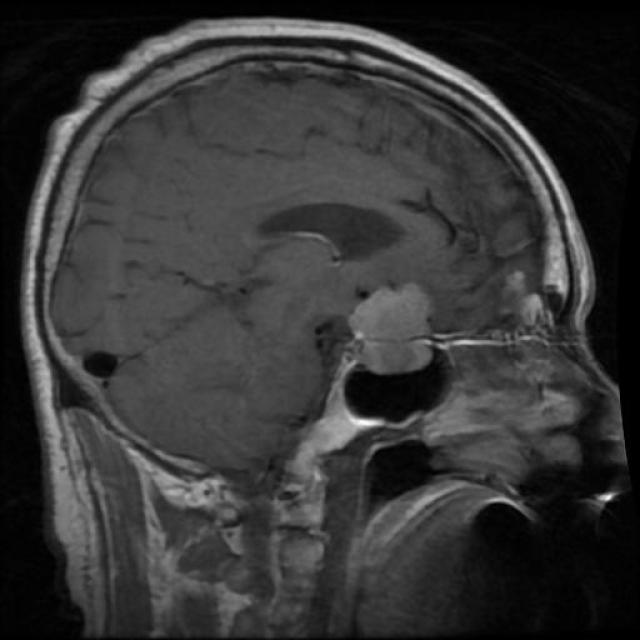pituitary: (345, 274, 439, 382)
